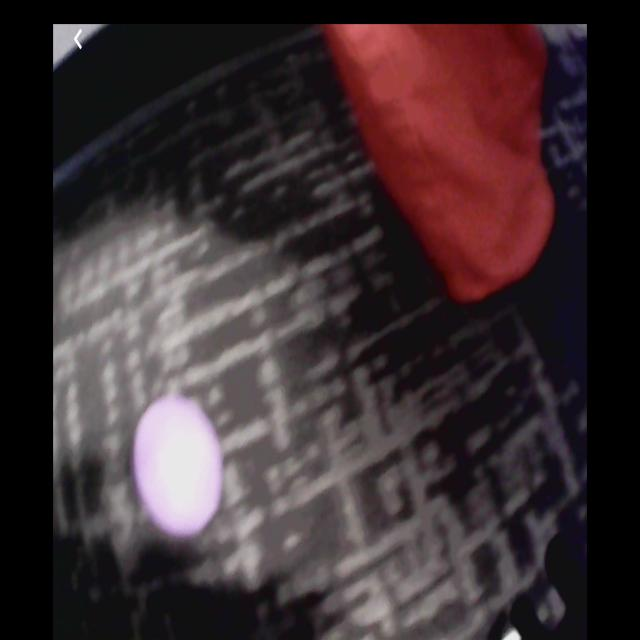ball: (136, 402, 220, 534)
